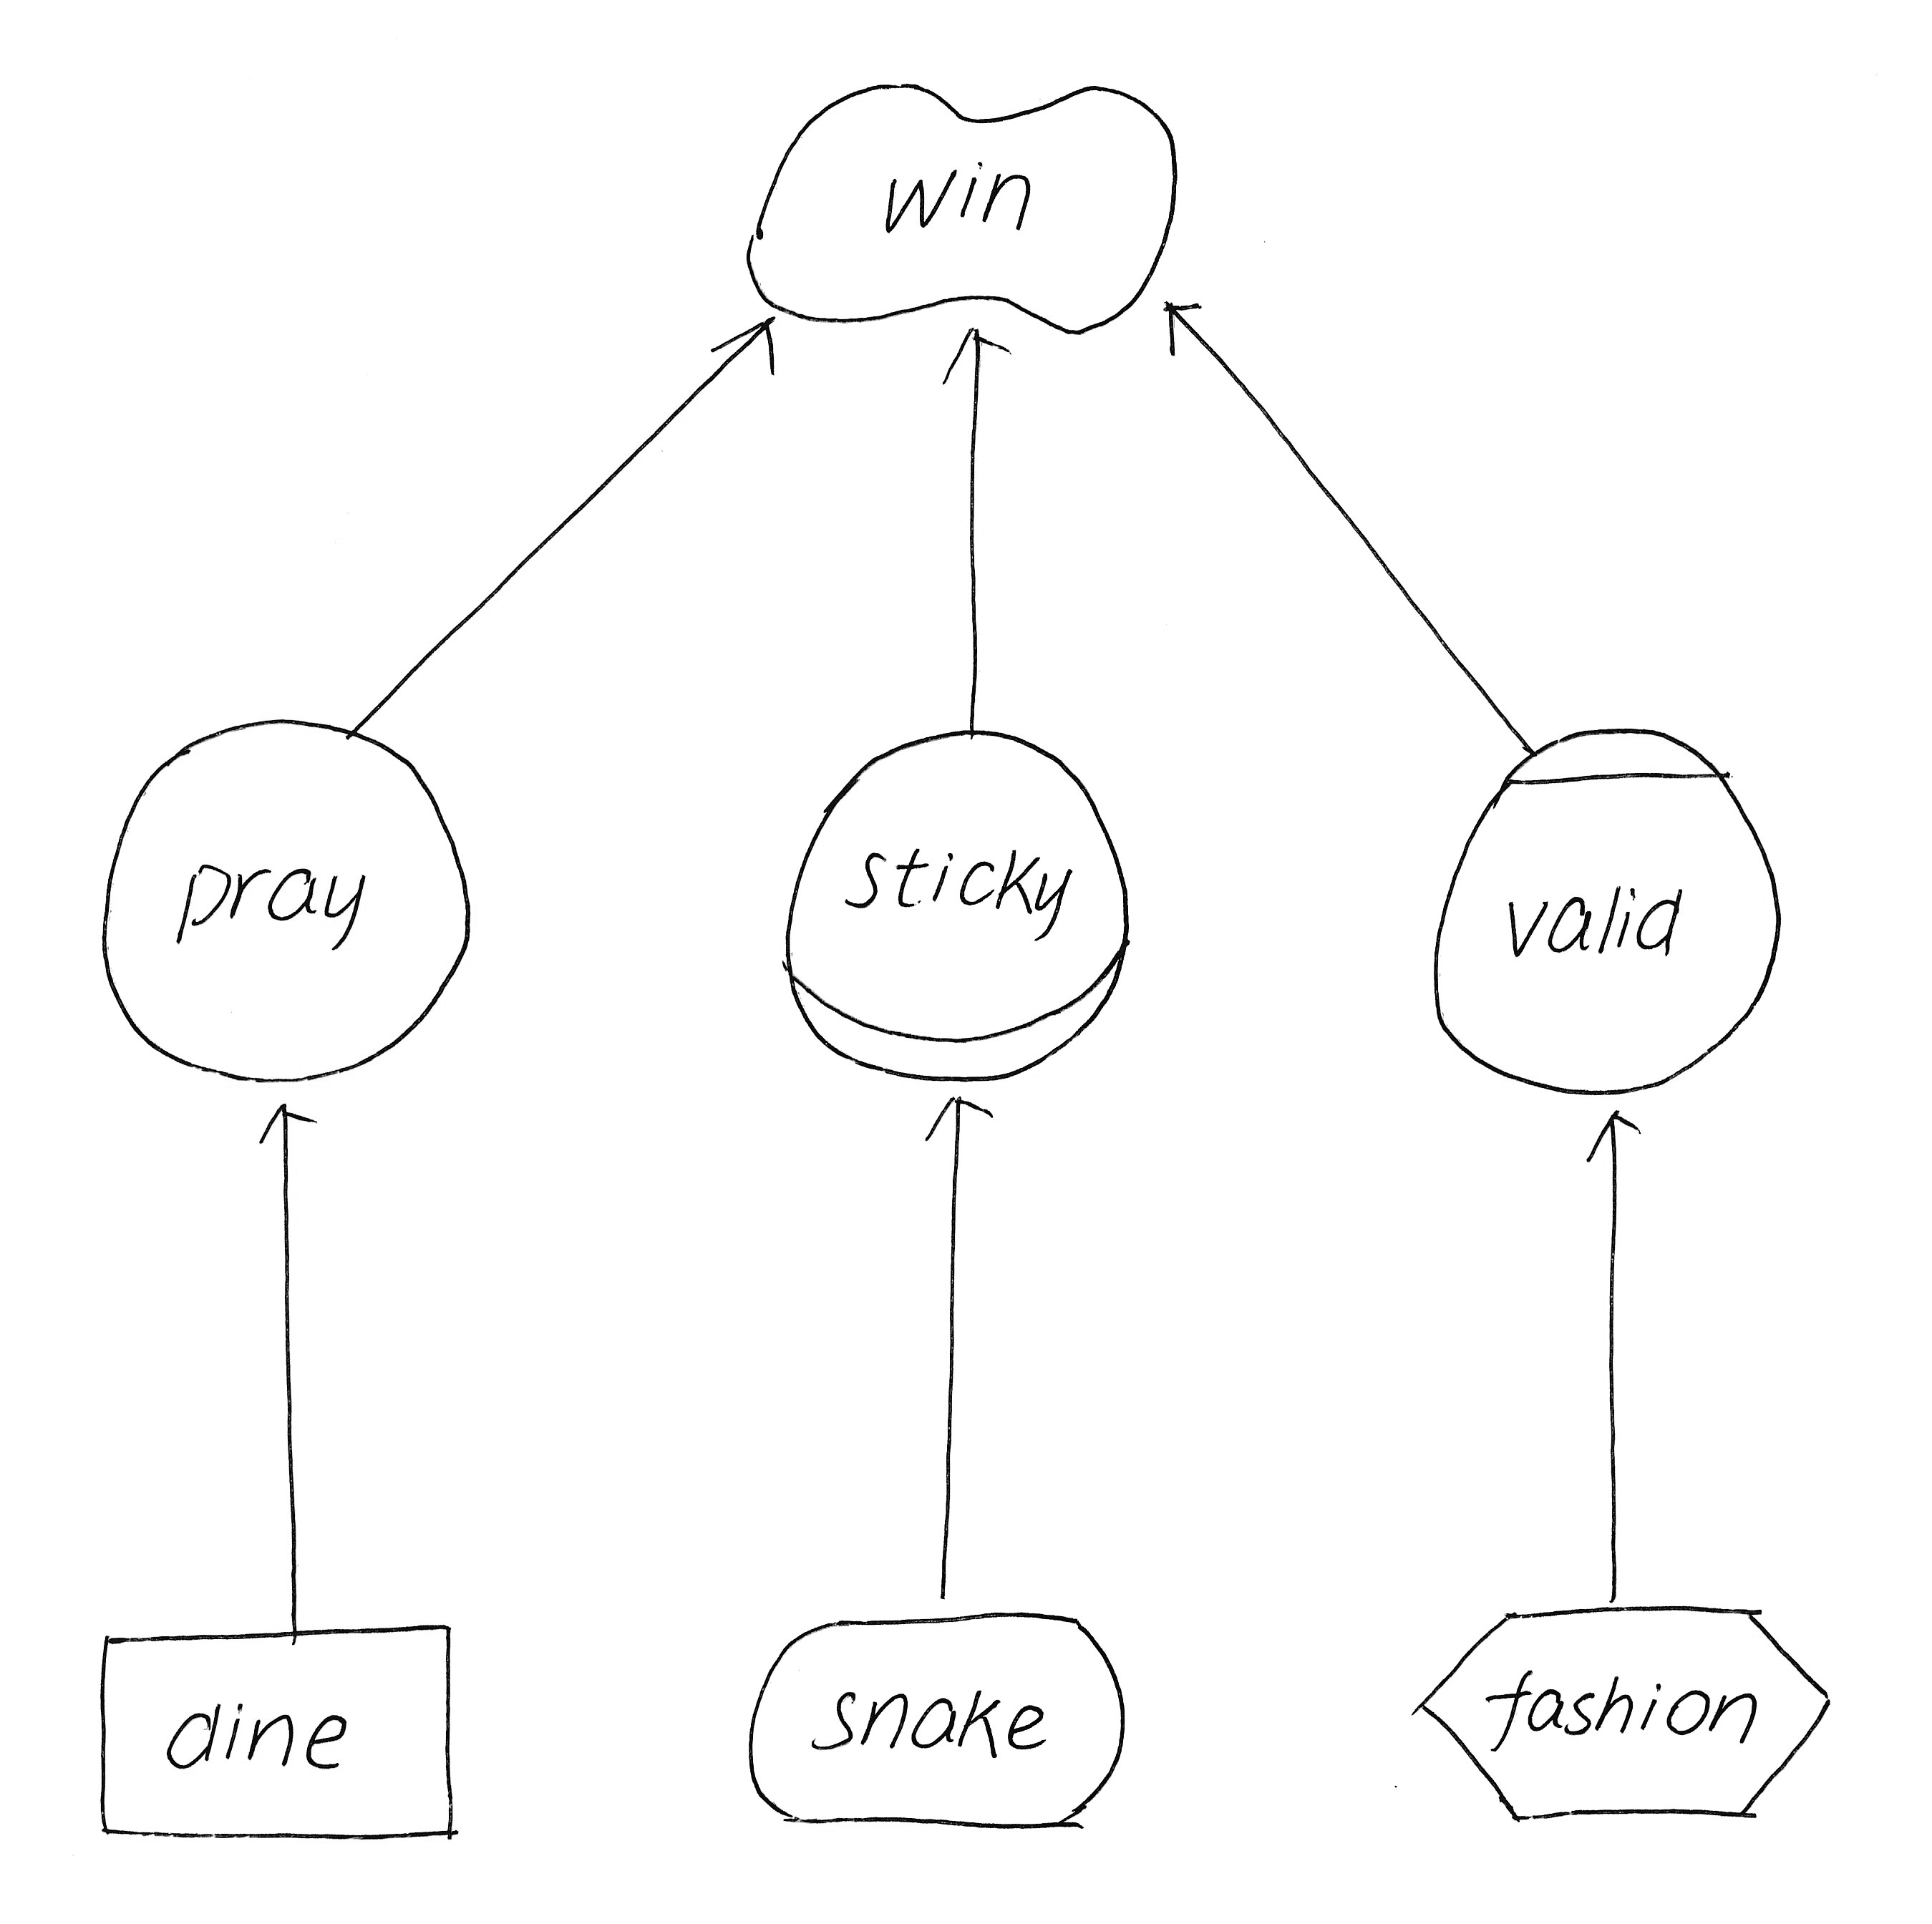actor: (71, 696, 499, 1101)
agent: (1410, 707, 1807, 1106)
arrow: (250, 1077, 333, 1166), (917, 1082, 1003, 1166), (1144, 282, 1216, 381), (936, 317, 1022, 395), (716, 310, 793, 381), (1581, 1092, 1648, 1170)
goal: (723, 1591, 1155, 1852)
quality: (728, 62, 1204, 349)
resource: (76, 1605, 479, 1864)
role: (763, 703, 1153, 1099)
task: (1393, 1582, 1849, 1838)
